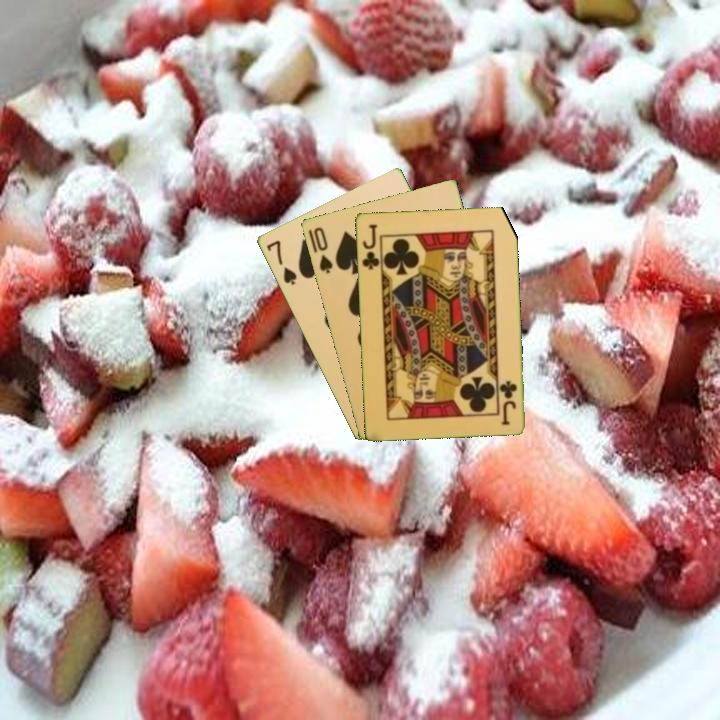10s: (310, 223, 335, 276)
7s: (263, 236, 299, 288)
Jc: (358, 220, 382, 272), (497, 377, 519, 427)
